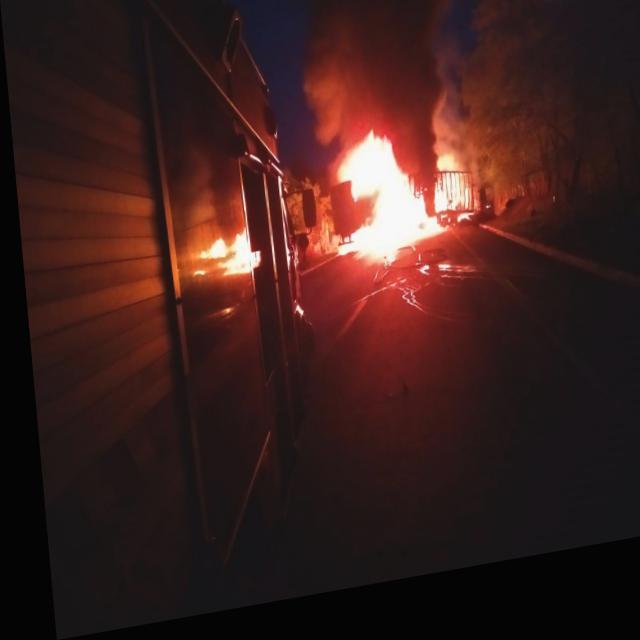Fire: (319, 135, 459, 278)
